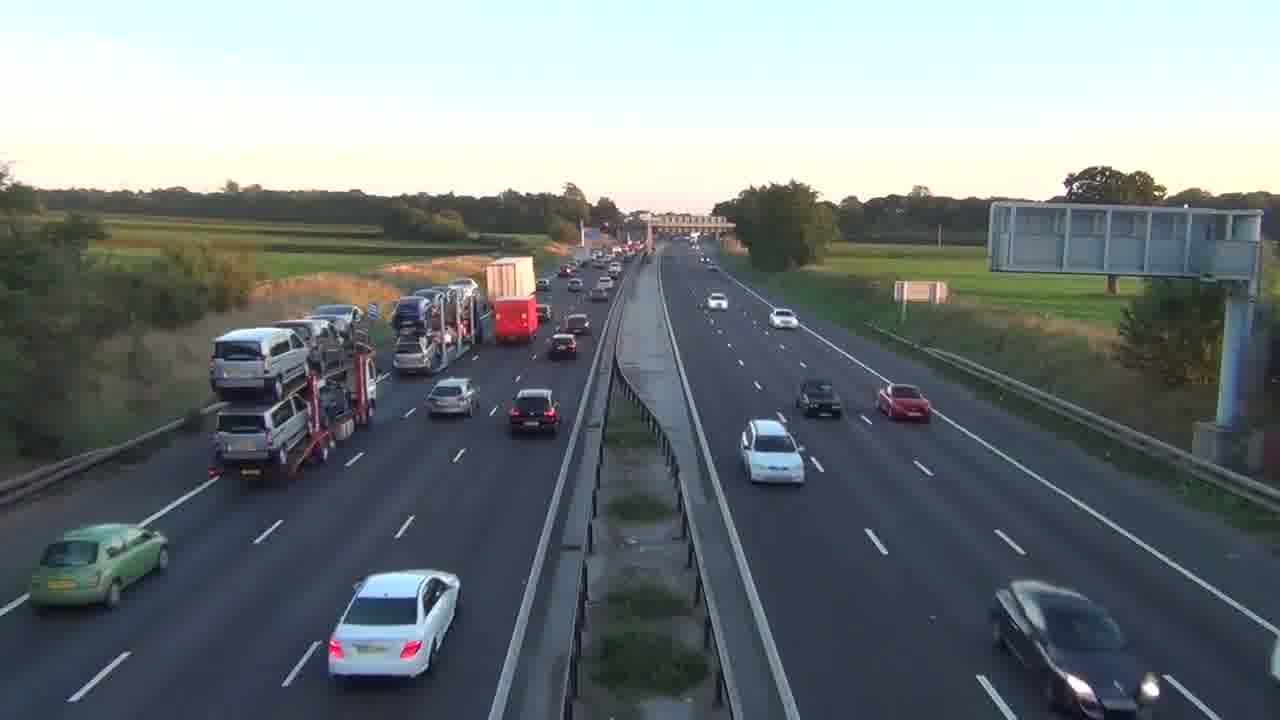car: (989, 577, 1147, 718), (325, 568, 462, 681), (28, 521, 169, 610), (738, 417, 807, 486), (507, 387, 561, 437), (425, 377, 480, 419), (877, 384, 931, 423), (796, 378, 845, 420), (548, 332, 577, 360), (562, 311, 592, 336), (770, 306, 799, 329)
